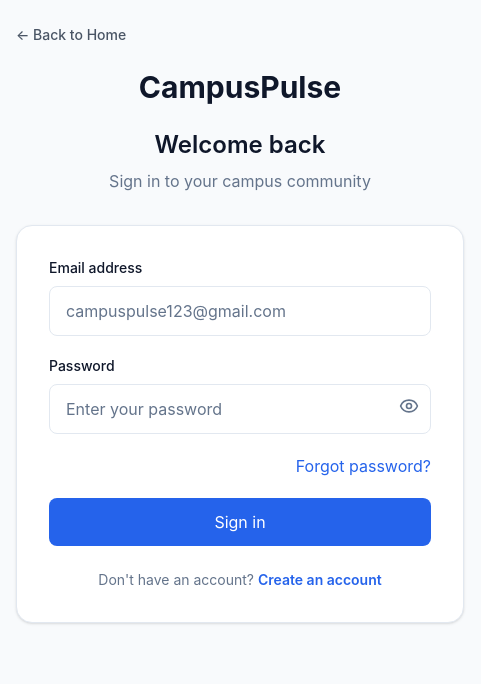
Scenario: Login › shows validation errors when submitted empty
Click the button "Sign in" at (240, 522), box [49,498,431,546]
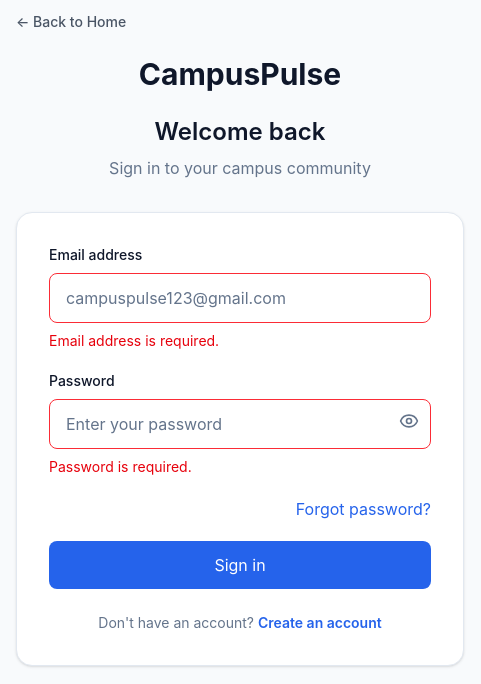
Check: the text "Email address is required." is shown, box [49,332,219,349]
Check: the text "Password is required." is shown, box [49,458,192,475]
